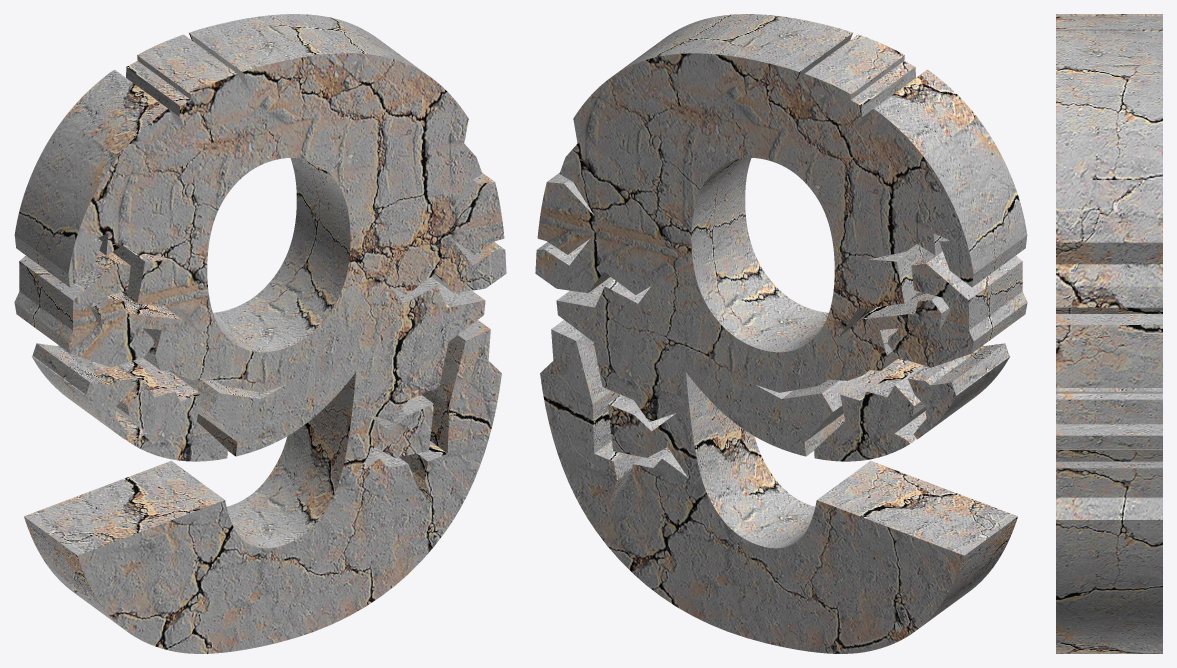
The picture shows the model from 3 angles, left to right: view 1: azimuth 30°, elevation 25°; view 2: azimuth 150°, elevation 25°; view 3: azimuth 270°, elevation 25°; orthographic projection.
Visible parts, largest first — view 1: 9; view 2: 9; view 3: 9.
Part boxes in pixels (<box>): 9: <box>14,14,506,653</box>; 9: <box>535,14,1027,653</box>; 9: <box>1056,14,1162,653</box>.
Size of the model in its own units: 70.65 by 89.42 by 15.
Materials: 1 (1 with a texture image).
